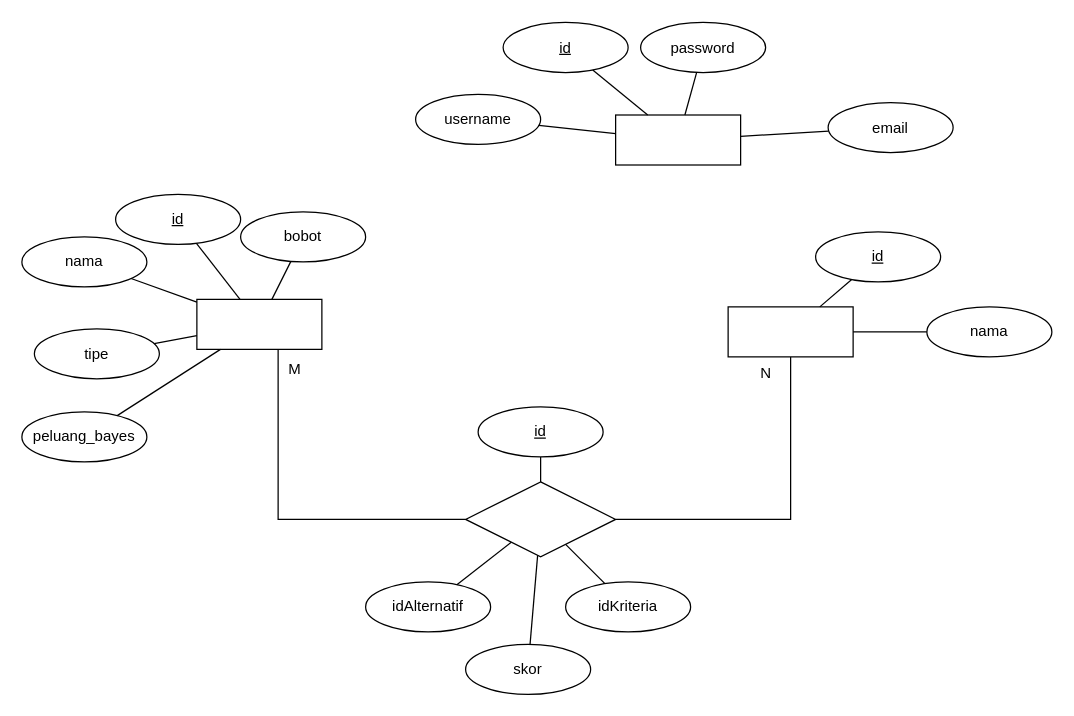
The diagram is 1074 pixels wide and 716 high, and some of its shapes have lost their labels. The shapes that lost their labels are listed below. From the top down, each one's centre as x and y in pixels, then its label:
the point at 677,139: Admin
the point at 259,323: Kriteria
the point at 790,331: Alternatif
the point at 540,519: Memiliki
